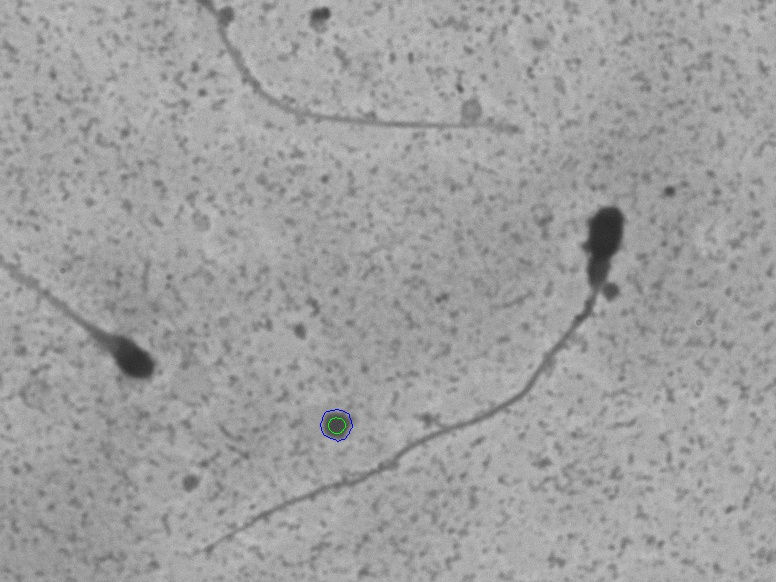Abnormal: (277, 186, 672, 519), (8, 223, 159, 426)
